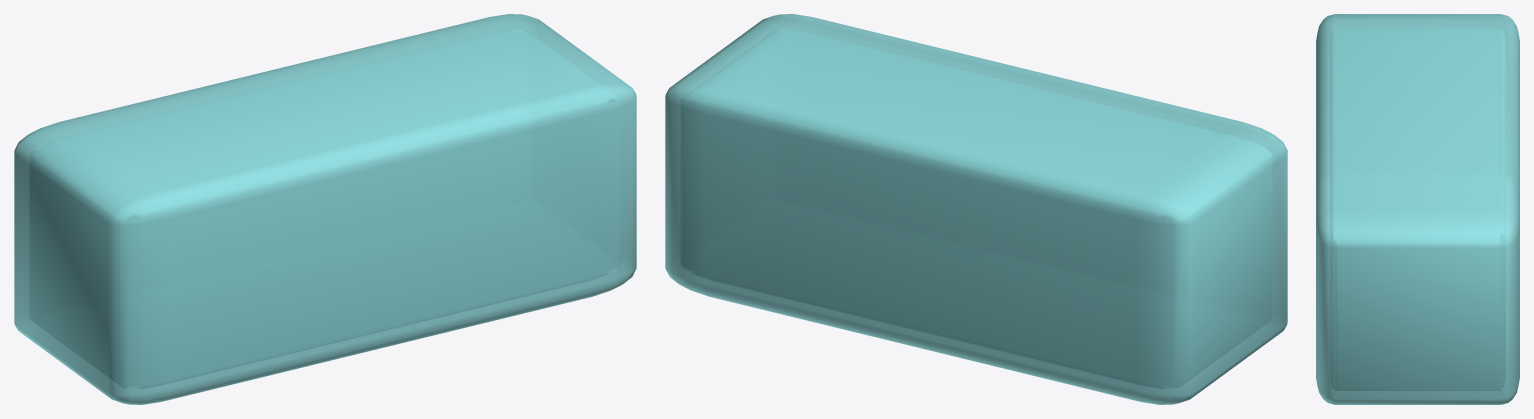
Rendered from GlassBrick.fbx.
3 renders of one model, left to right at view 1: azimuth 30°, elevation 25°; view 2: azimuth 150°, elevation 25°; view 3: azimuth 270°, elevation 25°, orthographic. The views are drawn at different scales.
Visible parts, largest first — view 1: Cube; view 2: Cube; view 3: Cube.
Part boxes in pixels (x1=…): Cube: x1=14, y1=14, x2=636, y2=404; Cube: x1=665, y1=14, x2=1287, y2=404; Cube: x1=1316, y1=14, x2=1519, y2=404.
Bounding box in the file's own units: 530 × 200 × 200.
